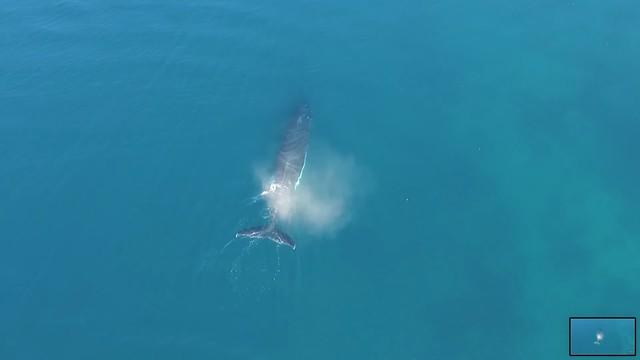whale: (231, 92, 323, 257)
